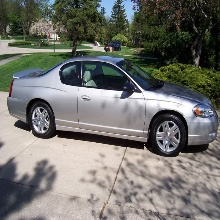no damage: (6, 55, 219, 157)
